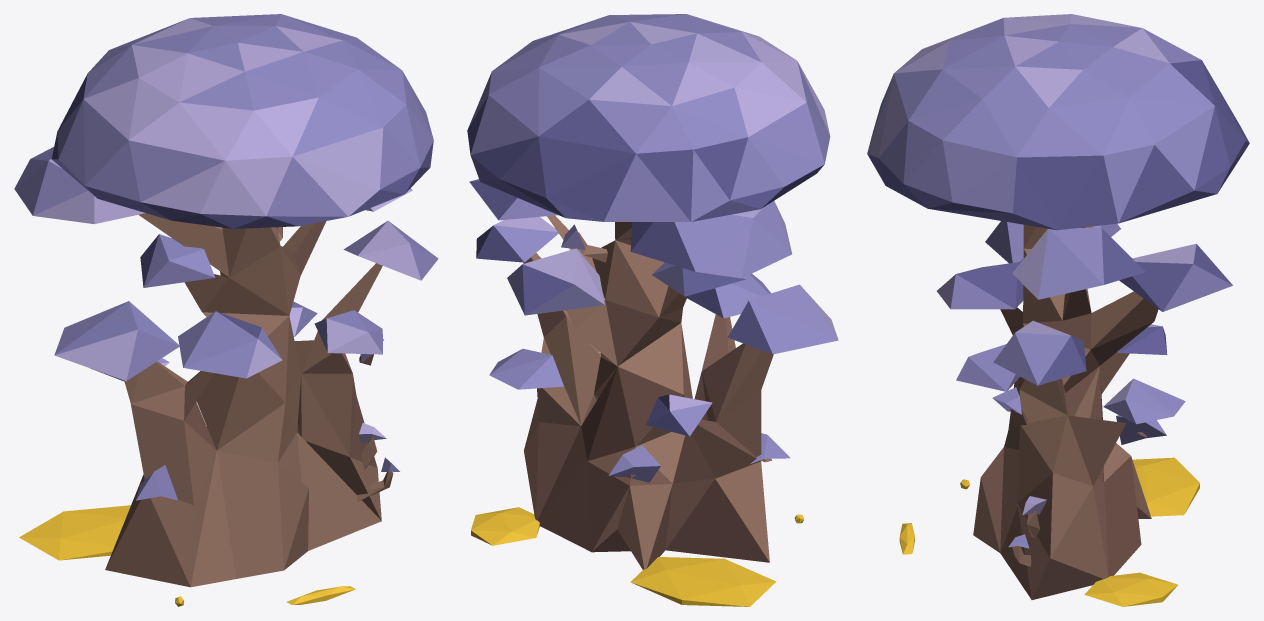
File: giant_mushroom_bare_far.glb
3 views of the same model, side by side, from view 1: azimuth 30°, elevation 25°; view 2: azimuth 150°, elevation 25°; view 3: azimuth 270°, elevation 25° (orthographic). The views are drawn at different scales.
Visible parts, largest first — view 1: giant_mushroom_bare_far; view 2: giant_mushroom_bare_far; view 3: giant_mushroom_bare_far.
Boxes of the visible parts, left/top/right/bottom form: giant_mushroom_bare_far: left=14, top=14, right=438, bottom=606; giant_mushroom_bare_far: left=467, top=14, right=838, bottom=606; giant_mushroom_bare_far: left=867, top=14, right=1249, bottom=606.
Size of the model in its own units: 17.45 by 22.13 by 15.41.
